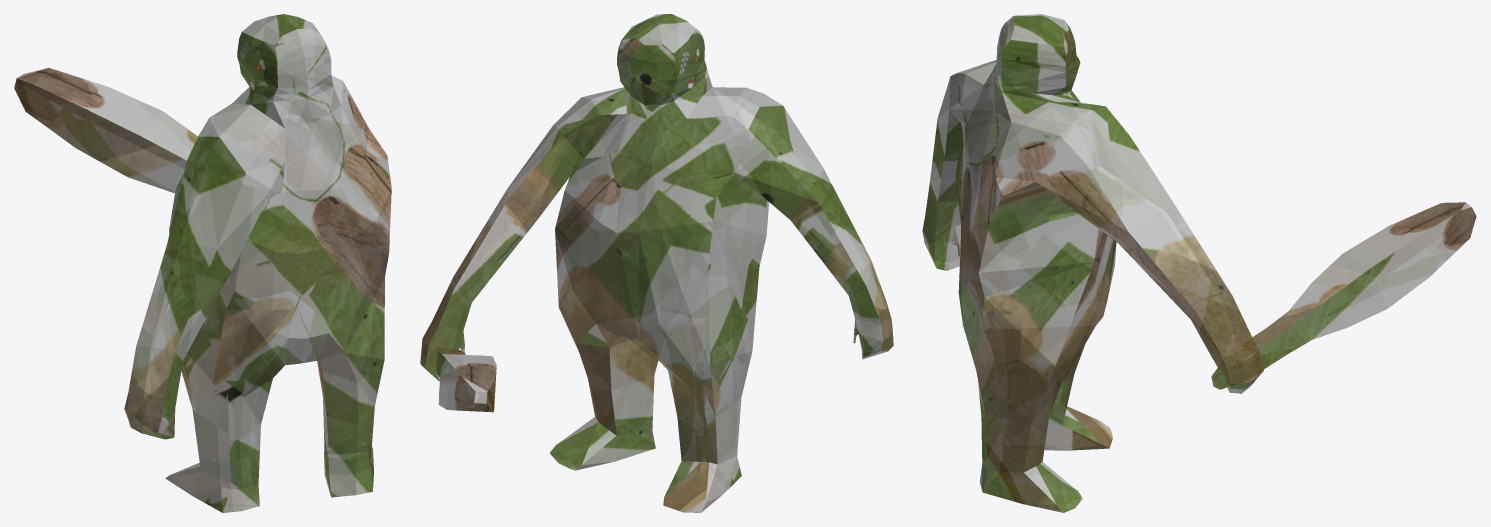
Rendered from Enemigo221.obj.
3 views of the same model, side by side, from view 1: azimuth 30°, elevation 25°; view 2: azimuth 150°, elevation 25°; view 3: azimuth 270°, elevation 25° (orthographic). The views are drawn at different scales.
Visible parts, largest first — view 1: Cube; view 2: Cube; view 3: Cube.
Part boxes in pixels (box(x1,y1,x2,y2)): Cube: box(14, 14, 391, 512); Cube: box(420, 14, 893, 512); Cube: box(922, 14, 1476, 512).
Size of the model in its own units: 2.05 by 2.7 by 3.
1 material, 1 textured.
